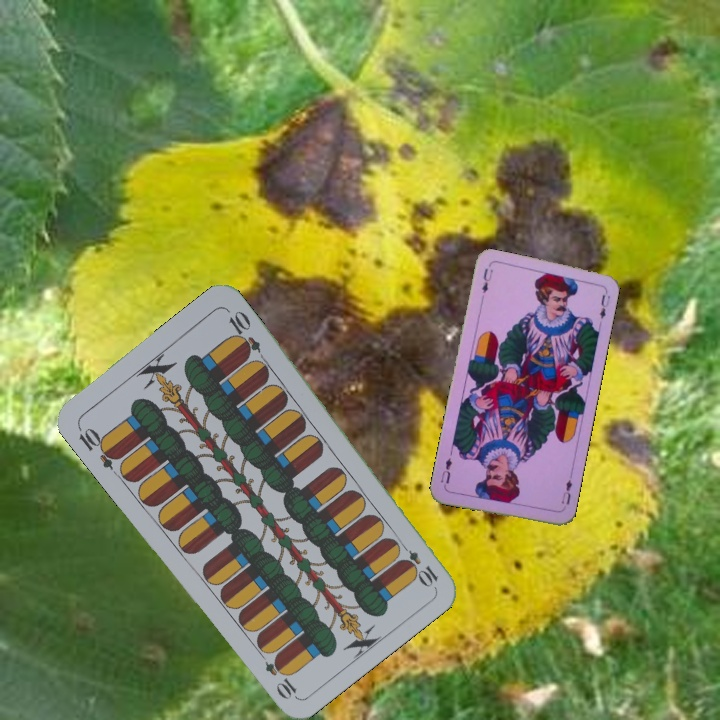E10: (73, 422, 123, 472), (394, 538, 441, 589)
EU: (557, 471, 575, 507), (478, 264, 496, 296)
